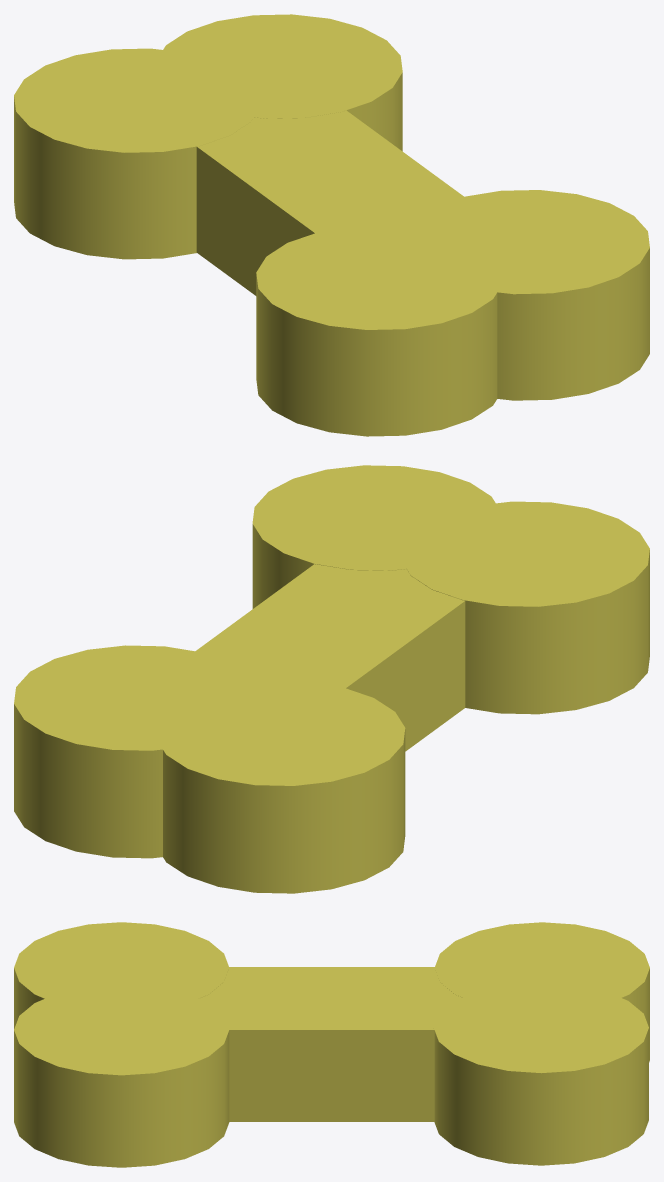
File: Par_Koekje_geel.fbx
The picture shows the model from 3 angles, top to bottom: view 1: azimuth 30°, elevation 25°; view 2: azimuth 150°, elevation 25°; view 3: azimuth 270°, elevation 25°; orthographic projection. The views are drawn at different scales.
Parts seen in each view (by area): view 1: pCylinder7; view 2: pCylinder7; view 3: pCylinder7.
Boxes of the visible parts, <box> form: pCylinder7: <box>14,14,649,436</box>; pCylinder7: <box>14,465,649,893</box>; pCylinder7: <box>14,922,649,1167</box>.
Size of the model in its own units: 2.06 by 0.5808 by 3.61.
